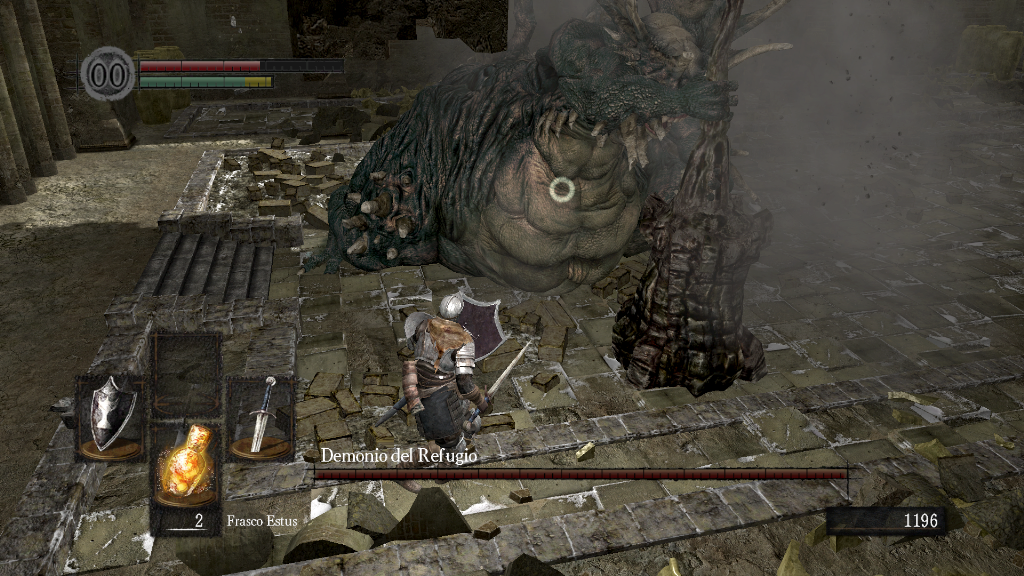asylumDemon: (292, 3, 800, 397)
bossHP: (314, 469, 847, 479)
health: (138, 58, 343, 71)
humanity: (80, 45, 136, 102)
player: (400, 293, 534, 471)
souls: (825, 506, 945, 536)
stamina: (138, 74, 274, 88)
